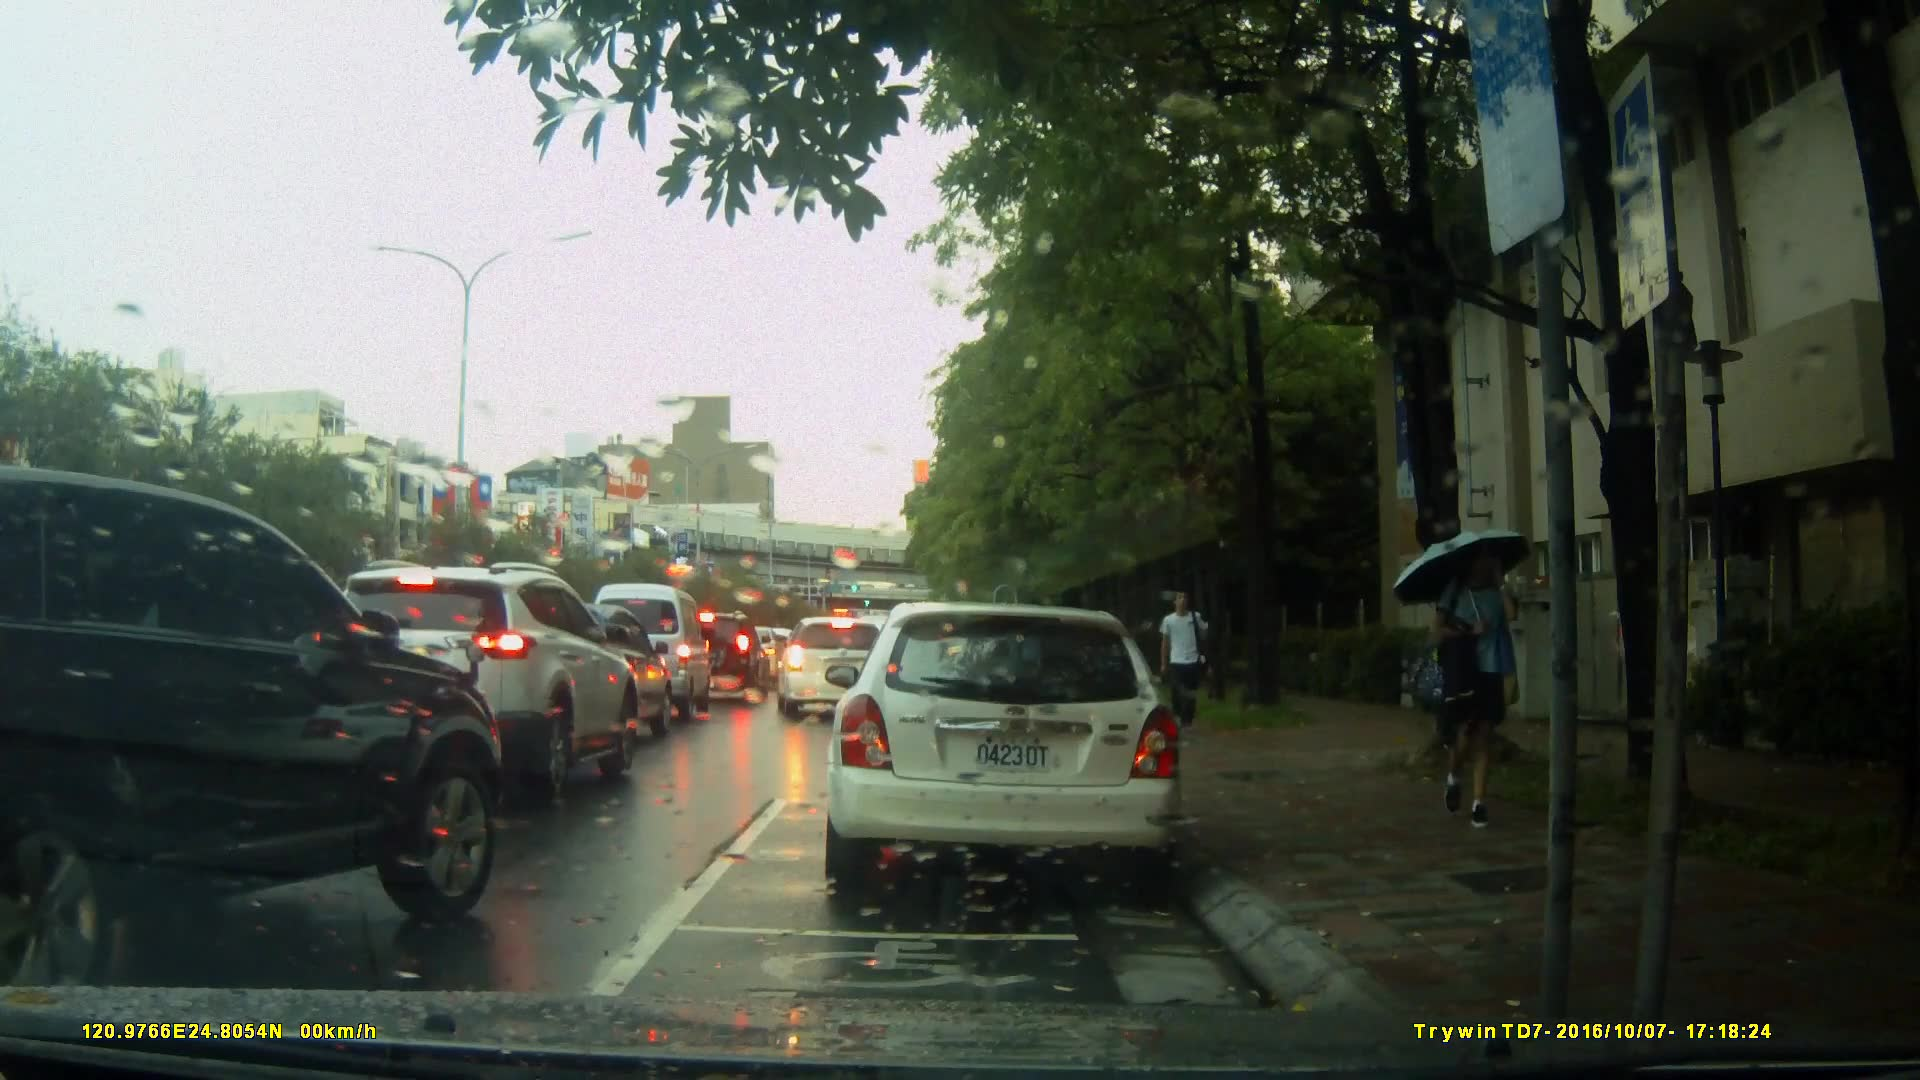pedestrian: (1418, 523, 1533, 852), (1155, 584, 1209, 738)
vehicle: (1, 463, 513, 988), (820, 602, 1188, 898), (303, 557, 644, 800), (483, 602, 678, 746), (580, 582, 711, 728), (774, 616, 908, 721), (676, 611, 768, 698)
